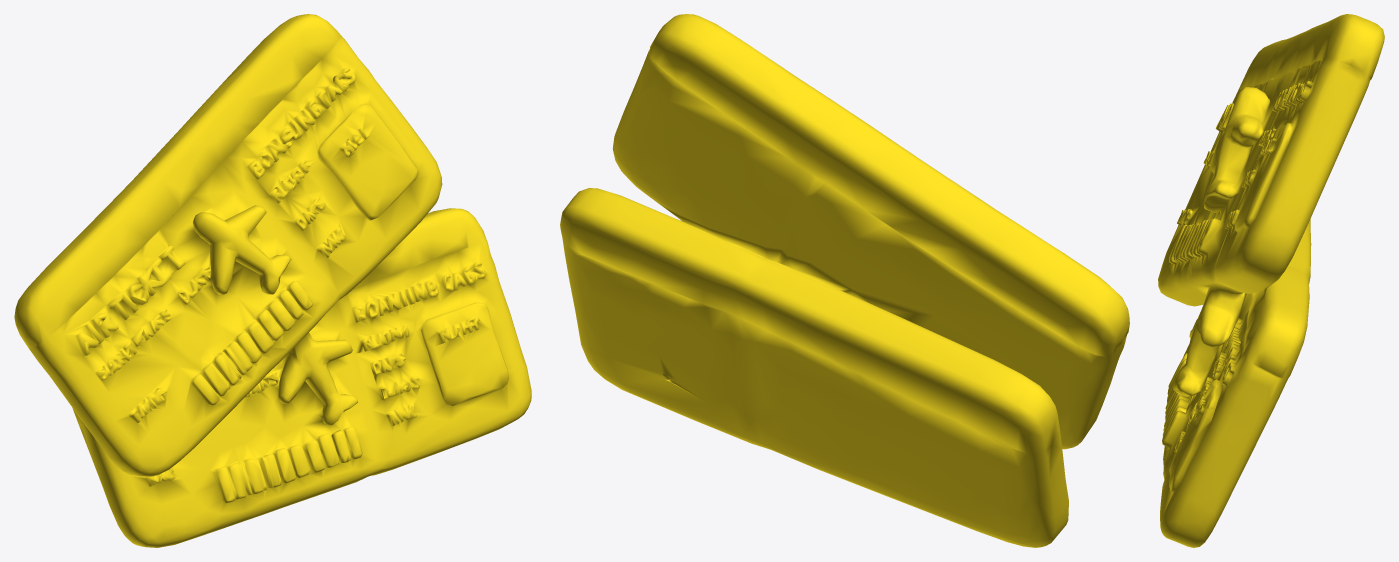
Rendered from Airfare.glb.
3 renders of one model, left to right at view 1: azimuth 30°, elevation 25°; view 2: azimuth 150°, elevation 25°; view 3: azimuth 270°, elevation 25°, orthographic. The views are drawn at different scales.
Visible parts, largest first — view 1: 機票; view 2: 機票; view 3: 機票.
Boxes of the visible parts, box(x1,y1,x2,y2) form: 機票: box(14, 14, 531, 547); 機票: box(560, 14, 1129, 547); 機票: box(1158, 14, 1384, 547).
Size of the model in its own units: 0.0489 by 0.0425 by 0.0172.
